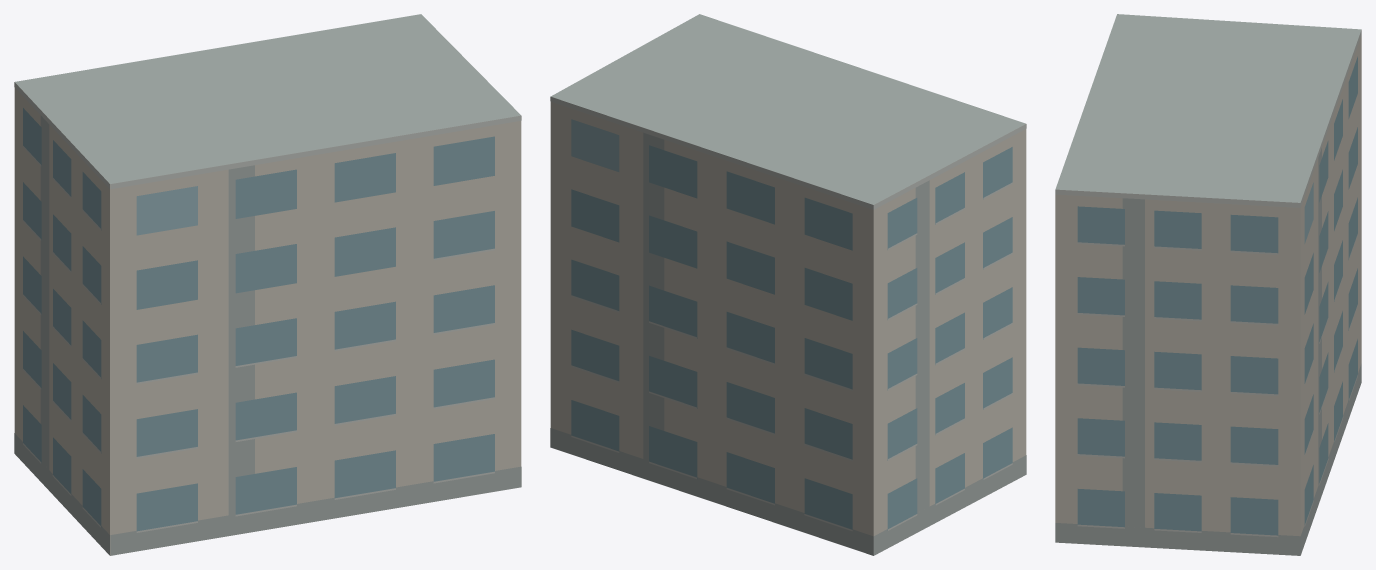
The model's file is survey-upis-32772688.glb.
3 views of the same model, side by side, from view 1: azimuth 30°, elevation 25°; view 2: azimuth 150°, elevation 25°; view 3: azimuth 270°, elevation 25° (orthographic). The views are drawn at different scales.
Visible parts, largest first — view 1: survey-upis-32772688.tmp; view 2: survey-upis-32772688.tmp; view 3: survey-upis-32772688.tmp.
Part boxes in pixels (x1,y1,x2,y2): survey-upis-32772688.tmp: (14, 14, 521, 555); survey-upis-32772688.tmp: (550, 14, 1026, 555); survey-upis-32772688.tmp: (1055, 14, 1361, 555).
Size of the model in its own units: 19.98 by 17.4 by 13.69.
